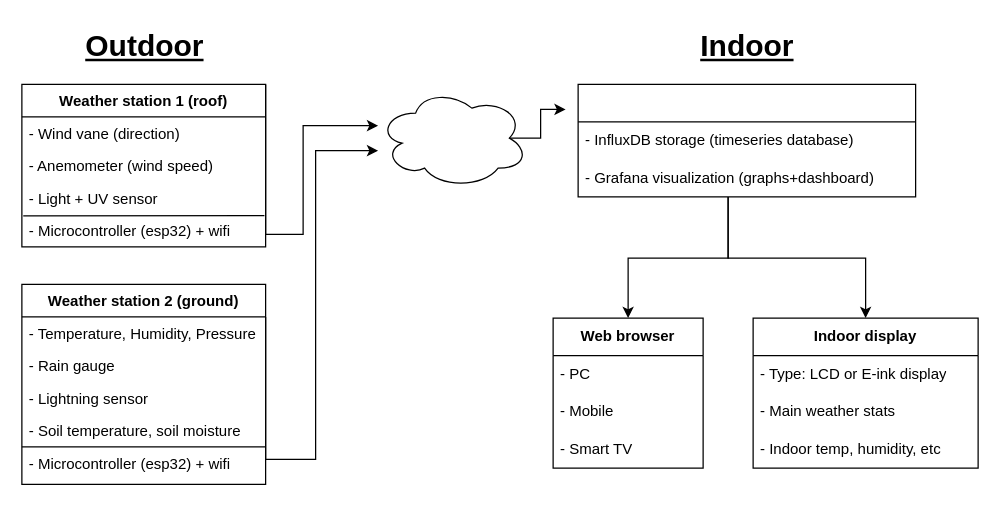
The diagram is 1000 pixels wide and 506 high, and some of its shapes have lost their labels. Each missing label, with the box of its shape:
Local server (raspberry pi): (577, 83, 916, 197)
WiFi: (377, 87, 528, 188)
